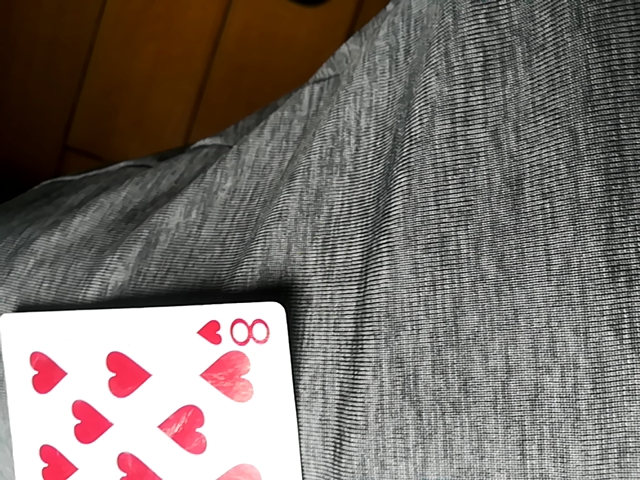hx 8: (2, 299, 301, 478)
